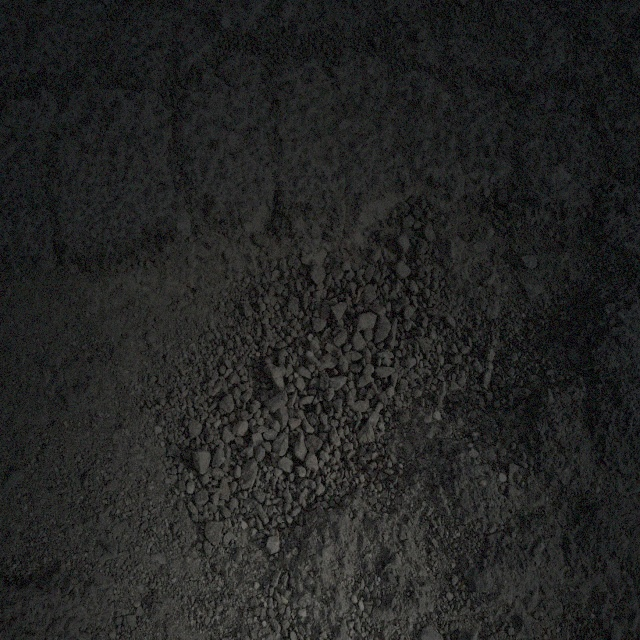pothole: (9, 175, 628, 571)
